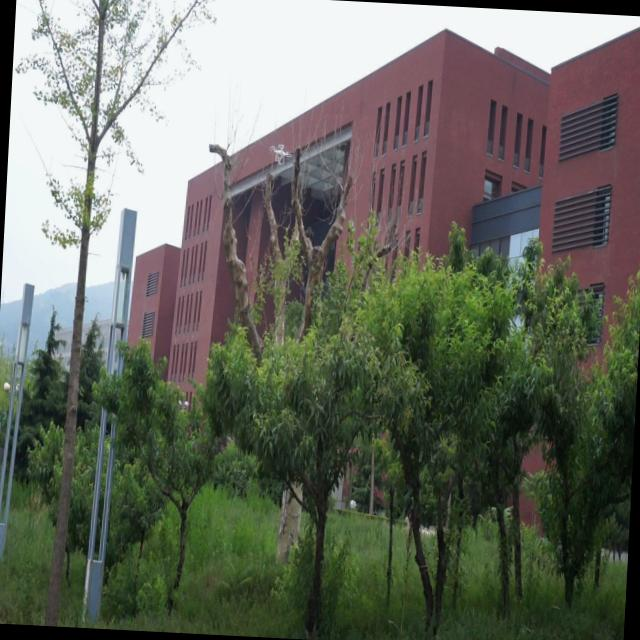drone: (268, 139, 294, 168)
